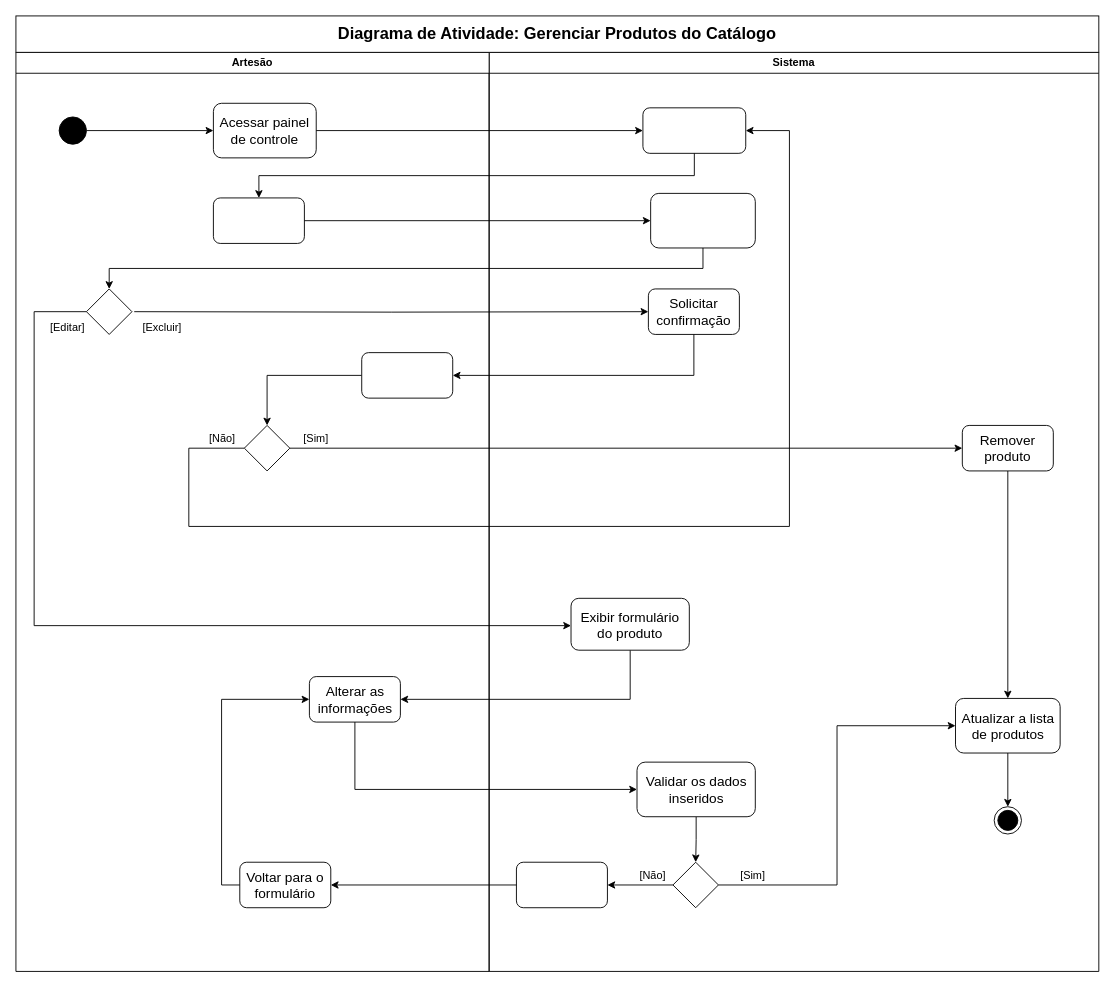
Some shapes in this 1115 by 987 pixel diagram are drawn without their labels. The centre of each missing label's shape, as x and y in pixels:
Confirmar exclusão: (407,375)
Exibir erro: (561,884)
Exibir lista de produto: (694,130)
Mostrar as opções Editar e Excluir: (702,220)
Selecionar um produto: (258,220)
